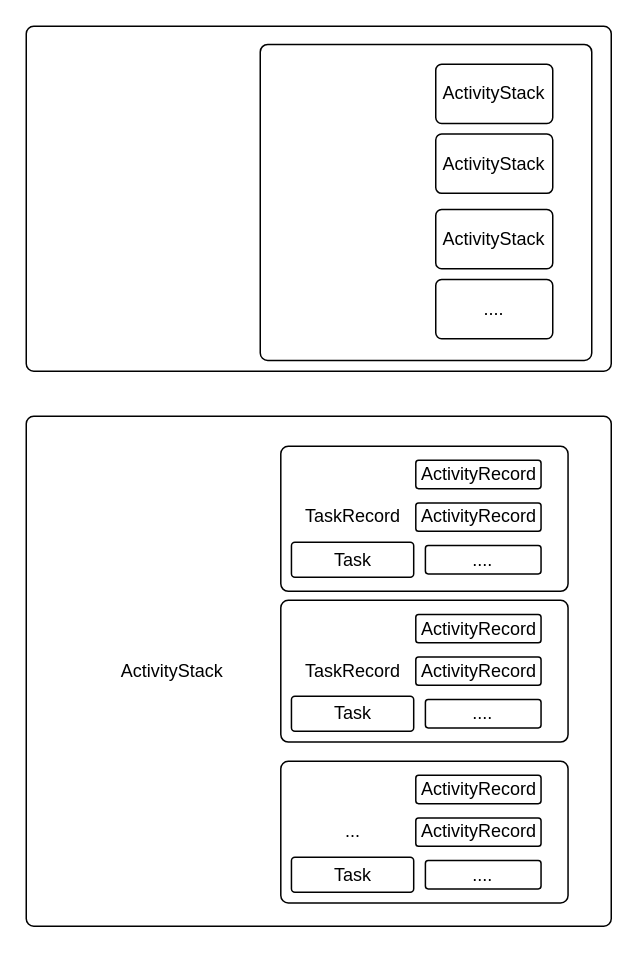
Some shapes in this 638 by 953 pixel diagram are drawn without their labels. Here are the shapes that lost their labels. From the top down, the centre of each, then its label:
At pixel 172 198: "Display".
At pixel 342 201: "ActivityDisplay".
